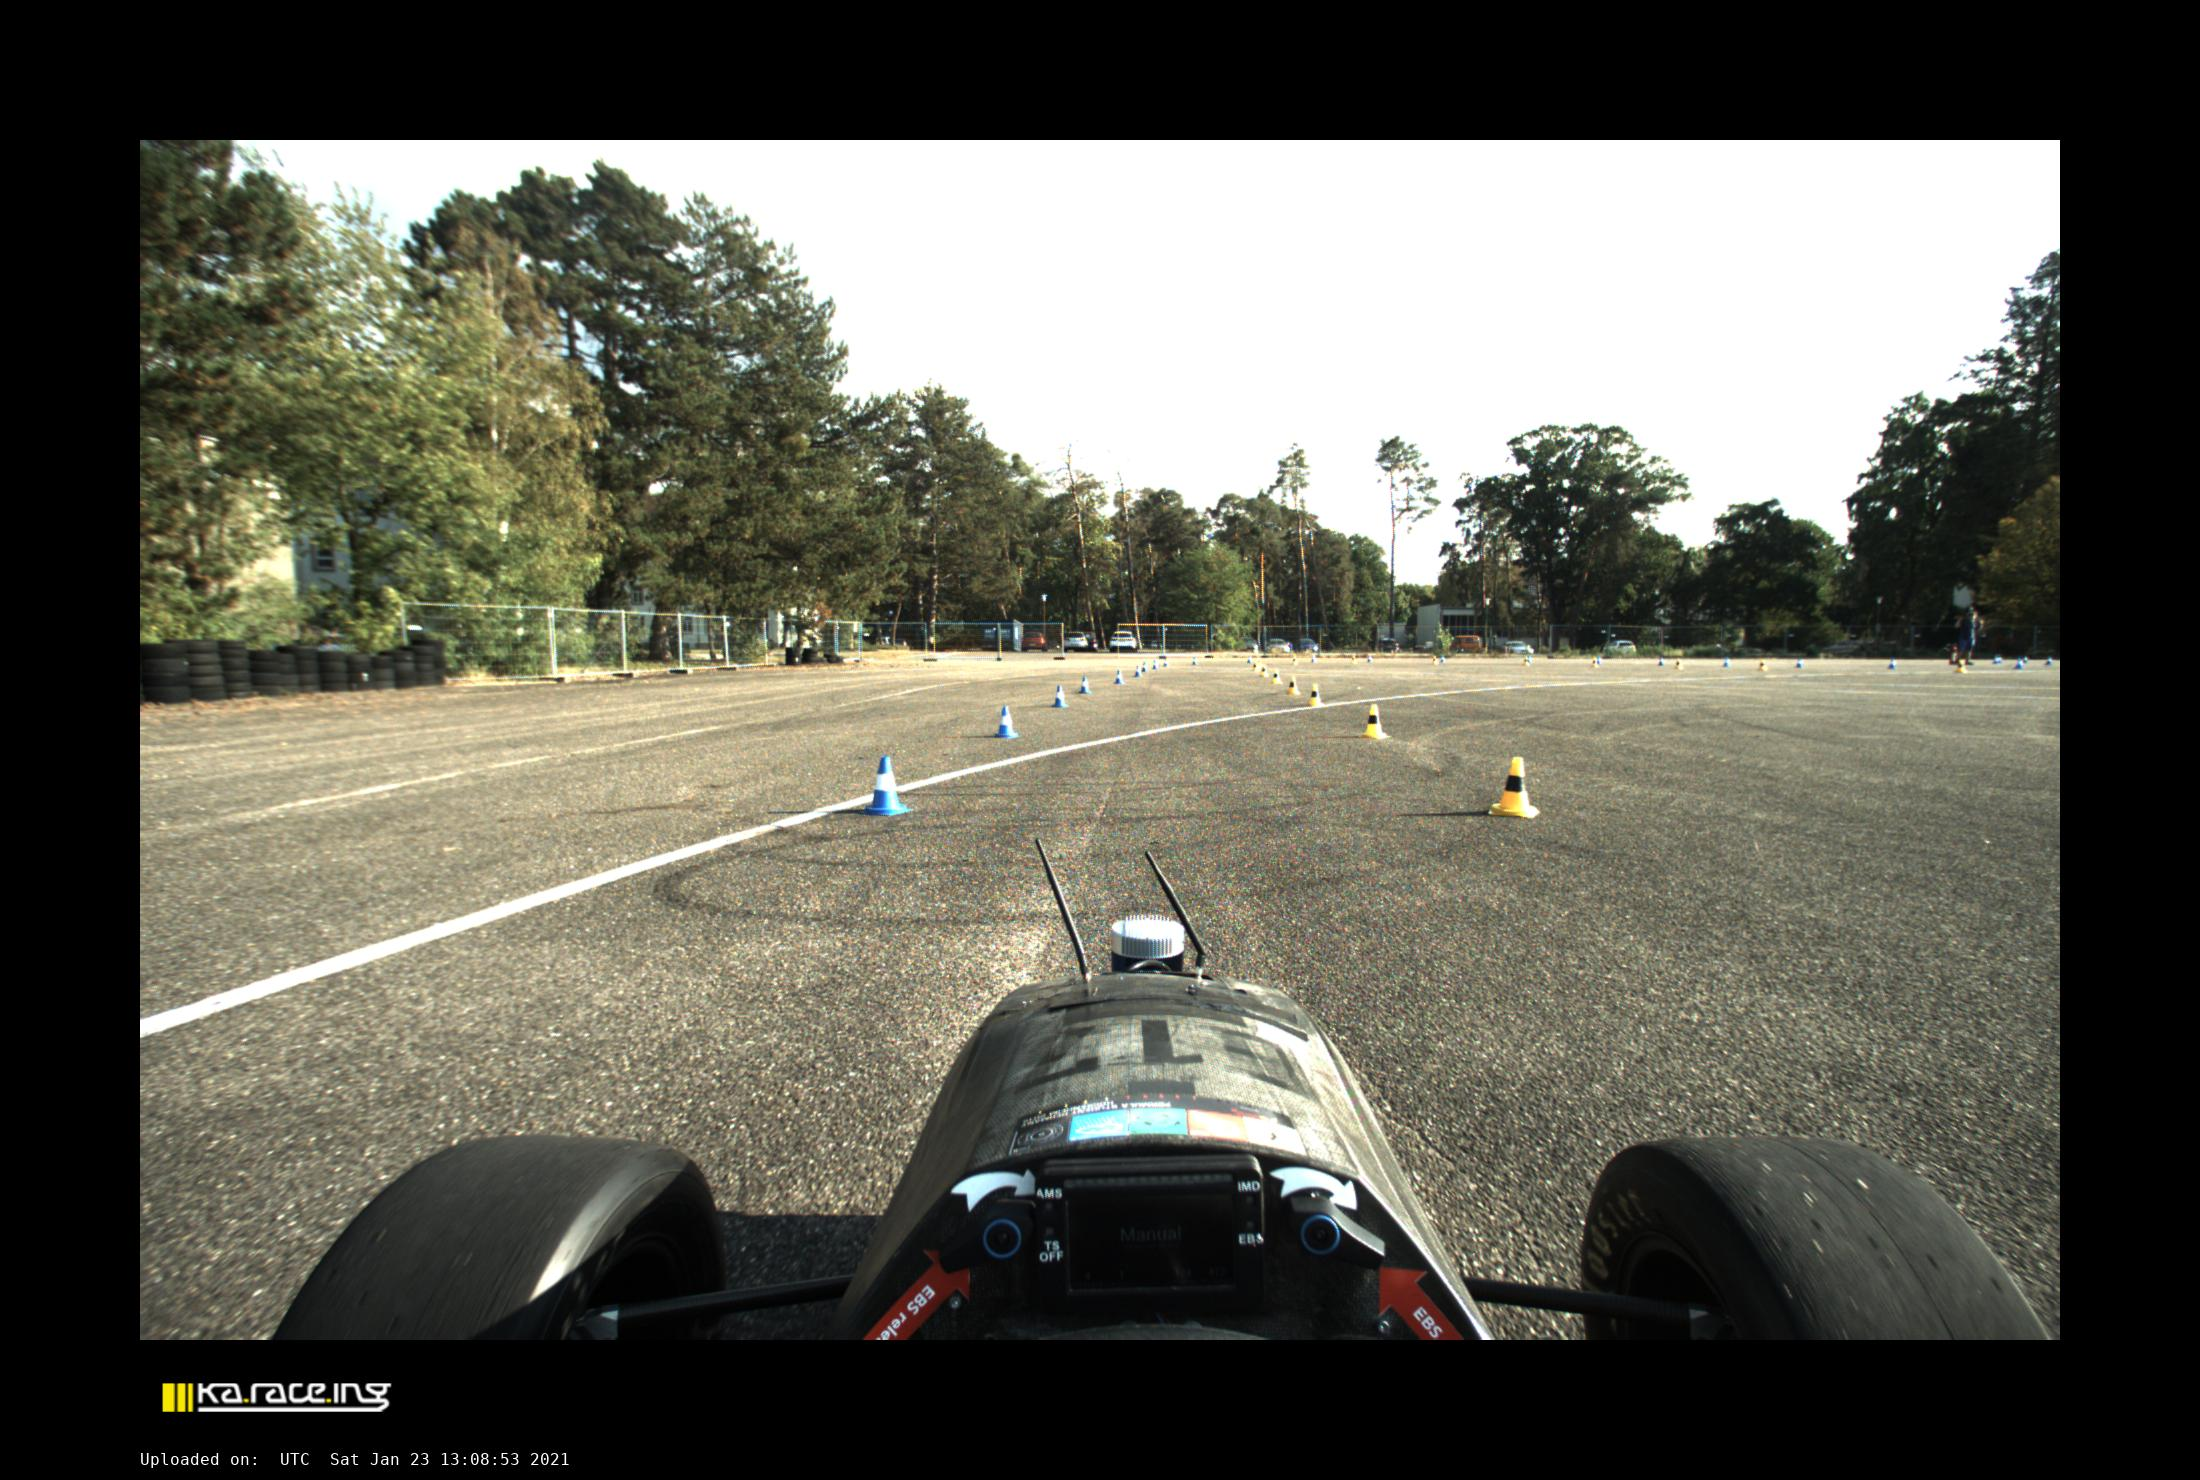blue_cone: (865, 755, 913, 818), (994, 705, 1017, 738), (1052, 685, 1069, 707), (1079, 676, 1092, 694), (1113, 669, 1125, 684), (1886, 657, 1898, 669), (2013, 657, 2023, 669), (1133, 666, 1141, 677), (1721, 656, 1729, 667), (2045, 656, 2053, 666), (1795, 657, 1804, 667), (1151, 659, 1158, 671), (1657, 656, 1663, 666), (1141, 661, 1146, 672), (1595, 656, 1602, 664), (1191, 657, 1197, 666), (1163, 657, 1168, 667), (1247, 654, 1252, 664), (1311, 654, 1316, 662), (1368, 654, 1373, 662), (1994, 656, 1998, 664), (1998, 654, 2003, 662), (1528, 656, 1533, 662), (2023, 656, 2028, 662), (1440, 656, 1444, 662)
yellow_cone: (1490, 757, 1539, 818), (1364, 704, 1391, 738), (1310, 684, 1323, 707), (1288, 676, 1298, 695), (1956, 659, 1969, 672), (1272, 669, 1282, 684), (1259, 664, 1268, 676), (1675, 657, 1683, 671), (1757, 661, 1767, 671), (1591, 656, 1599, 667), (1349, 654, 1358, 664), (1430, 656, 1439, 664), (1523, 656, 1529, 666), (1292, 656, 1298, 666), (1252, 662, 1259, 671)
